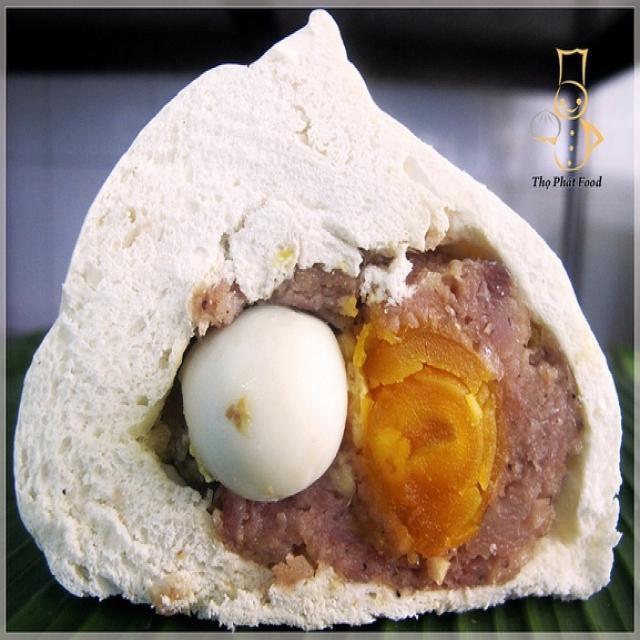带馅早点: (30, 28, 629, 615)
